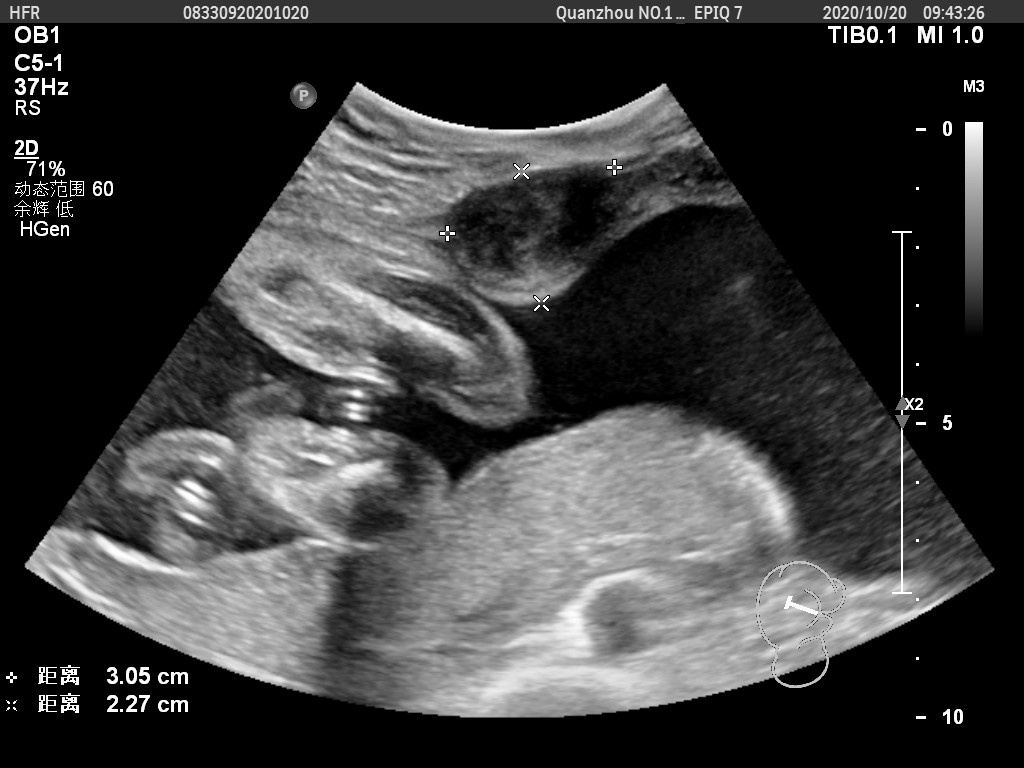肌瘤: (447, 167, 619, 305)
